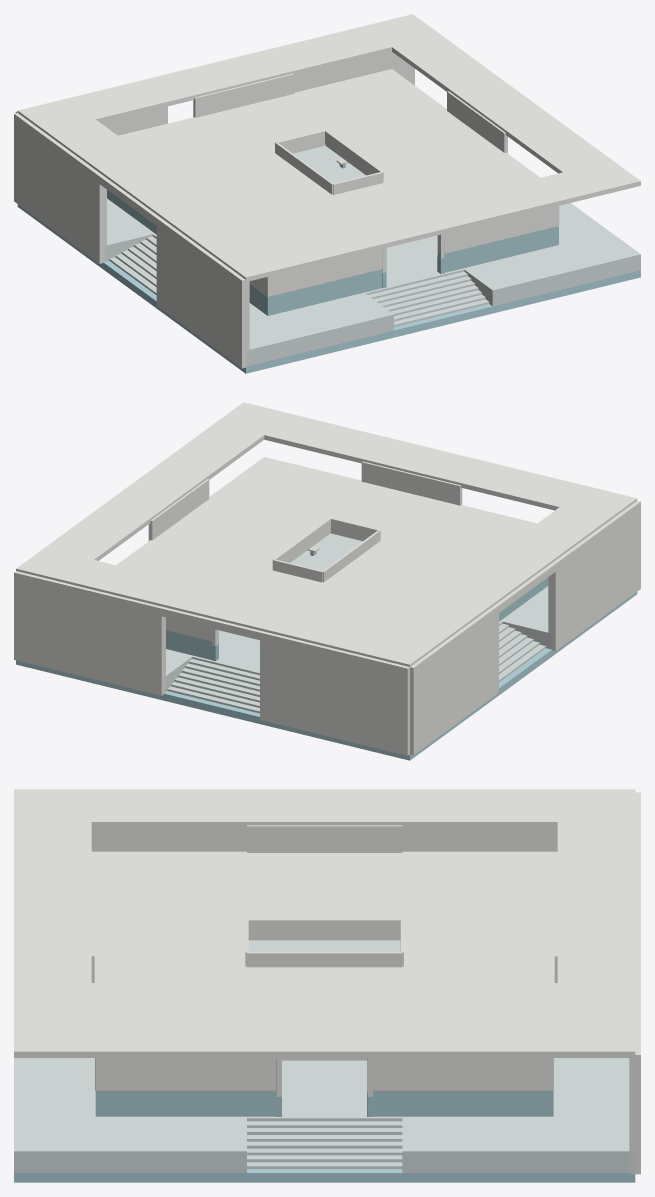
The model's file is service_transition.glb.
The picture shows the model from 3 angles, top to bottom: view 1: azimuth 30°, elevation 25°; view 2: azimuth 150°, elevation 25°; view 3: azimuth 270°, elevation 25°; orthographic projection. The views are drawn at different scales.
Parts seen in each view (by area): view 1: VIS_formal_plaster, VIS_formal_dry_deck, VIS_formal_wainscot, VIS_formal_basin; view 2: VIS_formal_plaster, VIS_formal_dry_deck, VIS_formal_basin, VIS_formal_wainscot; view 3: VIS_formal_plaster, VIS_formal_dry_deck, VIS_formal_wainscot, VIS_formal_basin.
Part boxes in pixels (x1,y1,x2,y2): VIS_formal_plaster: (14,14,640,368); VIS_formal_dry_deck: (103,145,640,366); VIS_formal_wainscot: (107,163,558,315); VIS_formal_basin: (17,204,640,373); VIS_formal_plaster: (14,402,640,755); VIS_formal_dry_deck: (163,533,551,713); VIS_formal_basin: (16,592,637,760); VIS_formal_wainscot: (166,551,548,661); VIS_formal_plaster: (14,789,640,1174); VIS_formal_dry_deck: (14,940,635,1172); VIS_formal_wainscot: (95,1091,553,1116); VIS_formal_basin: (14,1169,635,1182).
Size of what is drawn, in the model's own units: 32.3 by 7.45 by 32.3.
